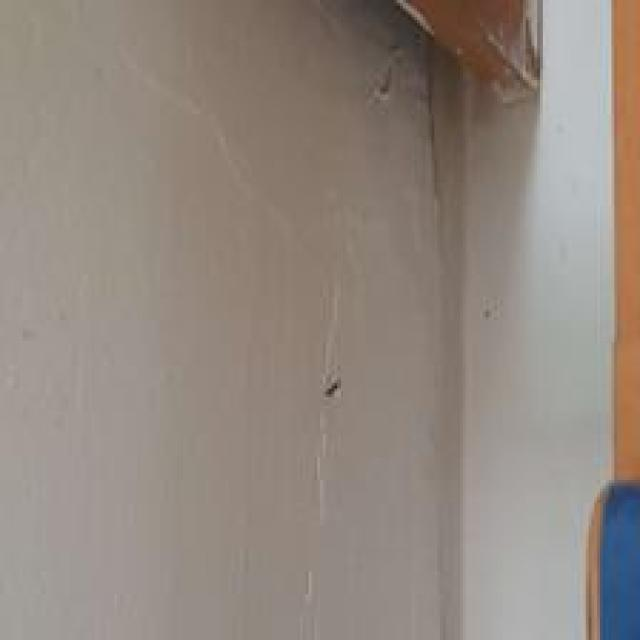Culex: (583, 477, 640, 640)
